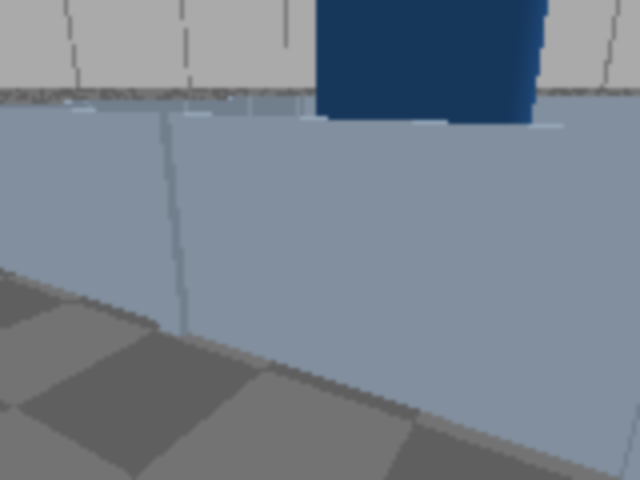person: (329, 0, 638, 332)
